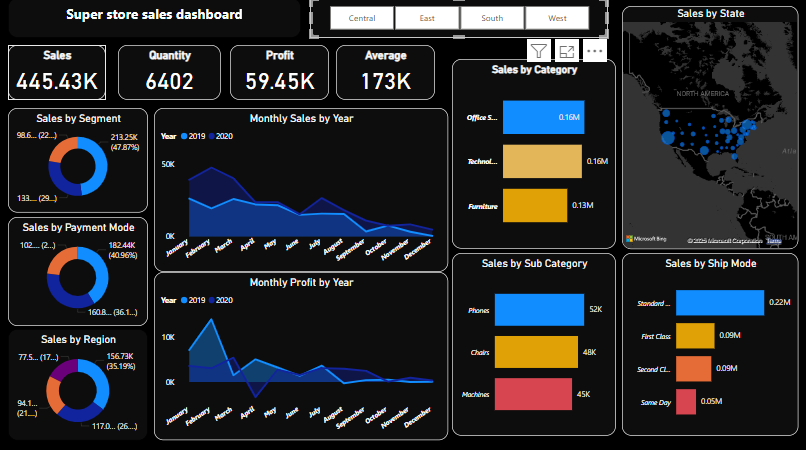

What the dashboard file says about the page in this screenshot:
{"tool":"powerbi","page":{"name":"Page 1","canvas":[1280,720],"ordinal":0},"visuals":[{"type":"clusteredBarChart","title":" Sales by Category","fields":{"Category":["SuperStore_Sales_Dataset.Category"],"Y":["Sum(SuperStore_Sales_Dataset.Sales)"]},"box":[718,97,260,301],"z":0},{"type":"clusteredBarChart","title":" Sales by Sub Category","fields":{"Y":["Sum(SuperStore_Sales_Dataset.Sales)"],"Category":["SuperStore_Sales_Dataset.Sub-Category"]},"box":[718,405,260,290],"z":1000},{"type":"clusteredBarChart","title":" Sales by Ship Mode","fields":{"Y":["Sum(SuperStore_Sales_Dataset.Sales)"],"Category":["SuperStore_Sales_Dataset.Ship Mode"]},"box":[987,405,280,290],"z":2000},{"type":"areaChart","title":"Monthly Sales by Year","fields":{"Y":["Sum(SuperStore_Sales_Dataset.Sales)"],"Category":["SuperStore_Sales_Dataset.Order Date.Variation.Date Hierarchy.Month","SuperStore_Sales_Dataset.Order Date.Variation.Date Hierarchy.Day"],"Series":["SuperStore_Sales_Dataset.Order Date.Variation.Date Hierarchy.Year"]},"box":[245,175,466.7,260],"z":3000},{"type":"areaChart","title":"Monthly Profit by Year","fields":{"Category":["SuperStore_Sales_Dataset.Order Date.Variation.Date Hierarchy.Month","SuperStore_Sales_Dataset.Order Date.Variation.Date Hierarchy.Day"],"Series":["SuperStore_Sales_Dataset.Order Date.Variation.Date Hierarchy.Year"],"Y":["Sum(SuperStore_Sales_Dataset.Profit)"]},"box":[245,435,466.7,266.7],"z":4000},{"type":"map","title":"Sales by State","fields":{"Category":["SuperStore_Sales_Dataset.State"],"Size":["Sum(SuperStore_Sales_Dataset.Sales)"]},"box":[987,12,280,386],"z":5000},{"type":"donutChart","title":"Sales by Segment","fields":{"Category":["SuperStore_Sales_Dataset.Segment"],"Y":["Sum(SuperStore_Sales_Dataset.Sales)"]},"box":[13,175,222,166],"z":6000},{"type":"donutChart","title":"Sales by Payment Mode","fields":{"Y":["Sum(SuperStore_Sales_Dataset.Sales)"],"Category":["SuperStore_Sales_Dataset.Payment Mode"]},"box":[13.3,348.3,221.7,173.3],"z":7000},{"type":"donutChart","title":"Sales by Region","fields":{"Y":["Sum(SuperStore_Sales_Dataset.Sales)"],"Category":["SuperStore_Sales_Dataset.Region"]},"box":[13.3,525,221.7,176.7],"z":8000},{"type":"slicer","fields":{"Values":["SuperStore_Sales_Dataset.Region"]},"box":[491.7,0,473.3,63.3],"z":9000},{"type":"textbox","box":[13.3,0,465,63.3],"z":10000},{"type":"card","title":"Sales","fields":{"Values":["Sum(SuperStore_Sales_Dataset.Sales)"]},"box":[13.3,75,155,86.7],"z":11000},{"type":"card","title":"Quantity","fields":{"Values":["Sum(SuperStore_Sales_Dataset.Quantity)"]},"box":[186.7,75,163.3,86.7],"z":12000},{"type":"card","title":"Profit","fields":{"Values":["Sum(SuperStore_Sales_Dataset.Profit)"]},"box":[365,75,156.7,86.7],"z":13000},{"type":"card","title":"Average","fields":{"Values":["Sum(SuperStore_Sales_Dataset.AveDelivery)"]},"box":[533.3,75,156.7,86.7],"z":14000}]}

Visuals, with their boxes in screenshot pixels (x1, y1, x2, y2), scaled from the page's 1280x720 canvas onto the 806x450 screenshot:
" Sales by Category" clusteredBarChart: 452/61/616/249
" Sales by Sub Category" clusteredBarChart: 452/253/616/434
" Sales by Ship Mode" clusteredBarChart: 622/253/798/434
"Monthly Sales by Year" areaChart: 154/109/448/272
"Monthly Profit by Year" areaChart: 154/272/448/439
"Sales by State" map: 622/8/798/249
"Sales by Segment" donutChart: 8/109/148/213
"Sales by Payment Mode" donutChart: 8/218/148/326
"Sales by Region" donutChart: 8/328/148/439
slicer - SuperStore_Sales_Dataset.Region: 310/0/608/40
textbox: 8/0/301/40
"Sales" card: 8/47/106/101
"Quantity" card: 118/47/220/101
"Profit" card: 230/47/329/101
"Average" card: 336/47/434/101
